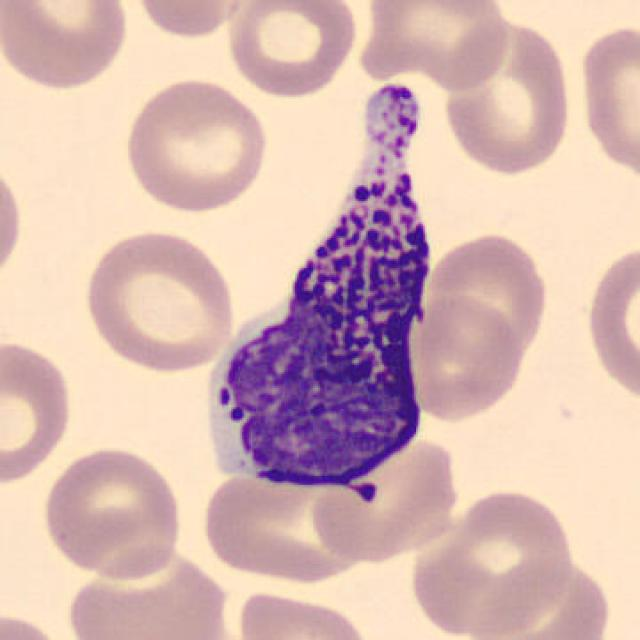Basophil: (197, 81, 448, 526)
RBC: (407, 485, 578, 638), (78, 226, 240, 376), (198, 457, 380, 589), (437, 12, 576, 178), (119, 72, 272, 215), (304, 430, 464, 564), (37, 442, 187, 582), (416, 229, 555, 365), (61, 543, 234, 640), (404, 291, 528, 423), (359, 0, 516, 92), (222, 0, 360, 100), (467, 553, 615, 640), (0, 0, 133, 93), (0, 333, 76, 490), (574, 18, 638, 188), (582, 236, 638, 409), (233, 587, 377, 640), (126, 0, 260, 41), (0, 152, 27, 291), (0, 606, 71, 640)
